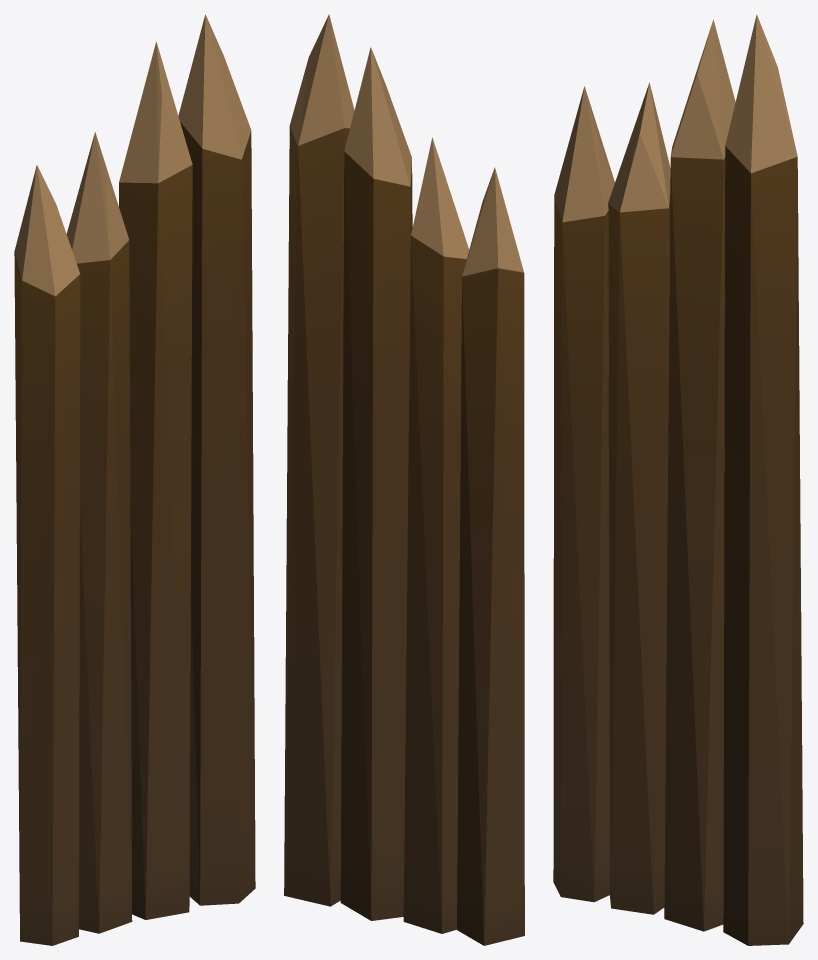
The model's file is FenceBig_07.fbx.
The picture shows the model from 3 angles, left to right: view 1: azimuth 30°, elevation 25°; view 2: azimuth 150°, elevation 25°; view 3: azimuth 330°, elevation 25°; orthographic projection. The views are drawn at different scales.
Parts seen in each view (by area): view 1: FenceBig_07; view 2: FenceBig_07; view 3: FenceBig_07.
Part boxes in pixels (x1=…): FenceBig_07: x1=14, y1=14, x2=255, y2=945; FenceBig_07: x1=284, y1=14, x2=524, y2=945; FenceBig_07: x1=553, y1=14, x2=803, y2=945.
Bounding box in the file's own units: 0.8732 × 3.14 × 0.2536.
